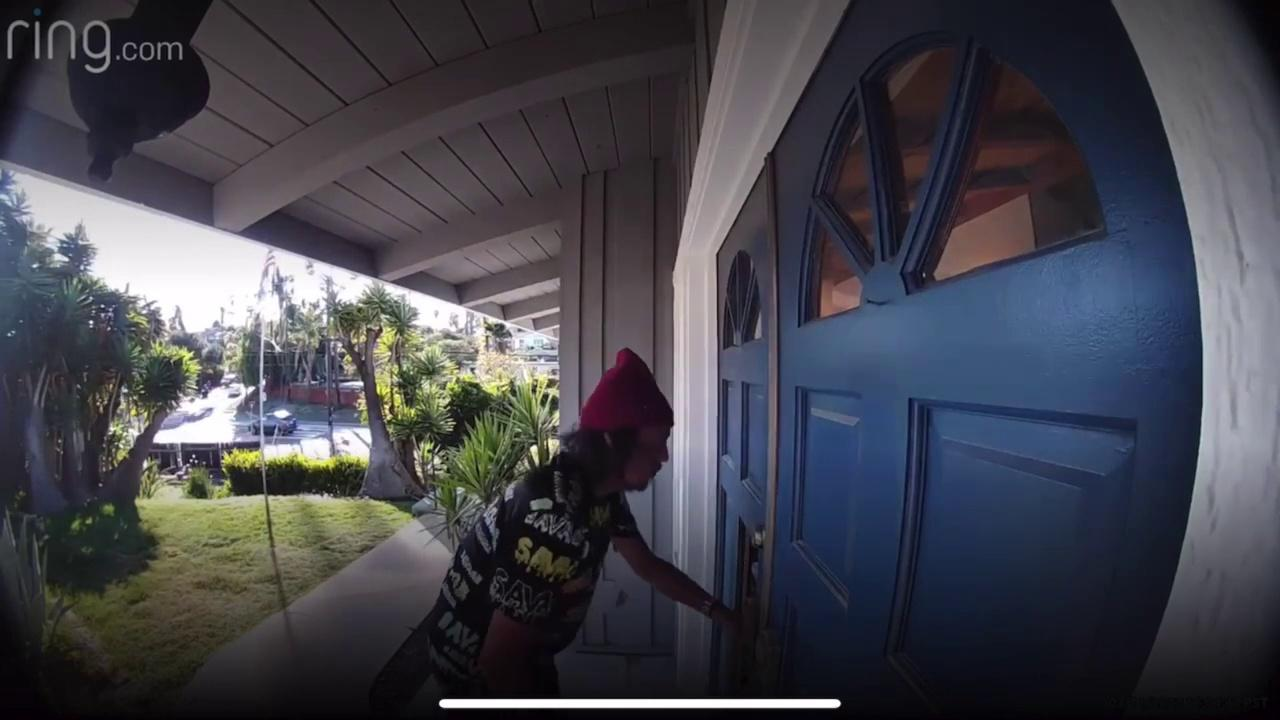suspicion: (400, 330, 776, 720)
